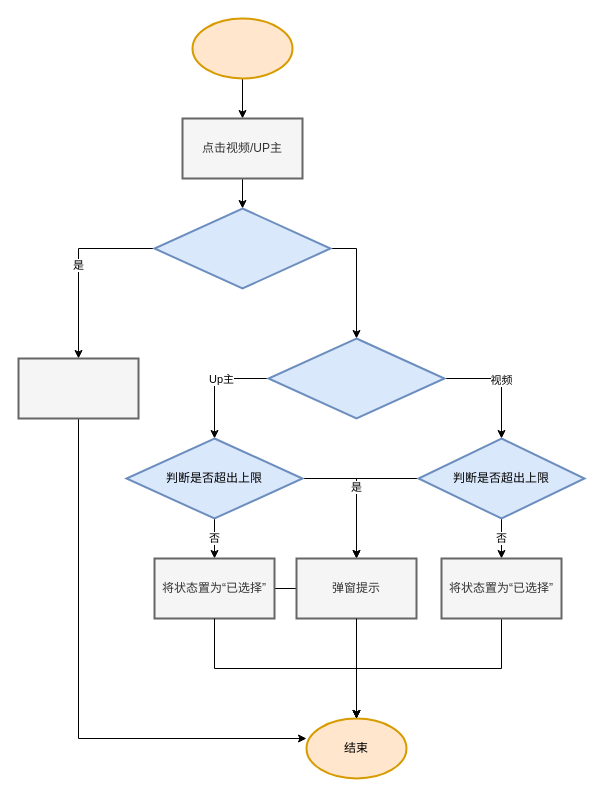
The diagram is 602 pixels wide and 796 high, and some of its shapes have lost their labels. The shapes that lost their labels are listed below. From the top down, each one's centre as x and y in pixels, then its label:
At [242,48]: "开始".
At [242,248]: "判断是否为“空置”状态".
At [78,388]: "将状态置为“空置”".
At [356,378]: "判断“Up主”还是“视频”".
